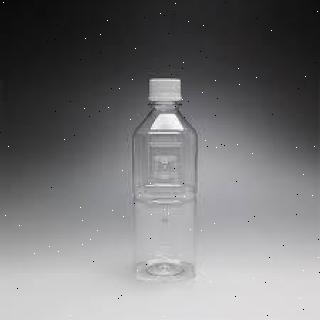Plastic-bottle: (132, 78, 201, 285)
